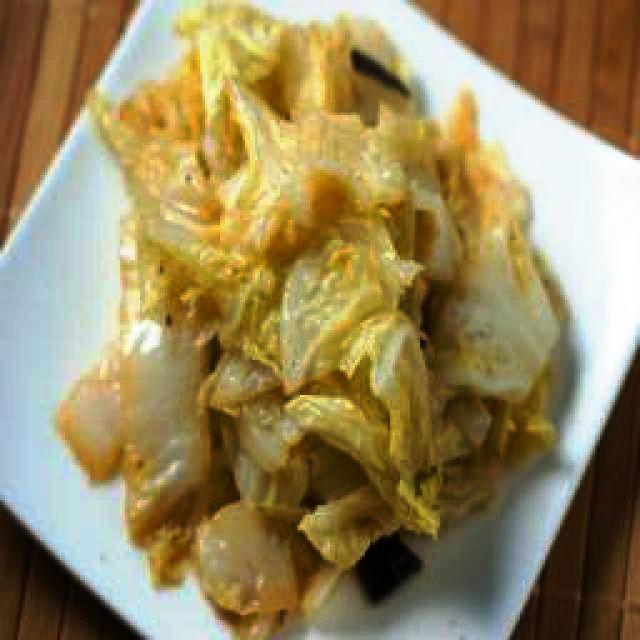chinese_cabbage: (33, 2, 560, 637)
